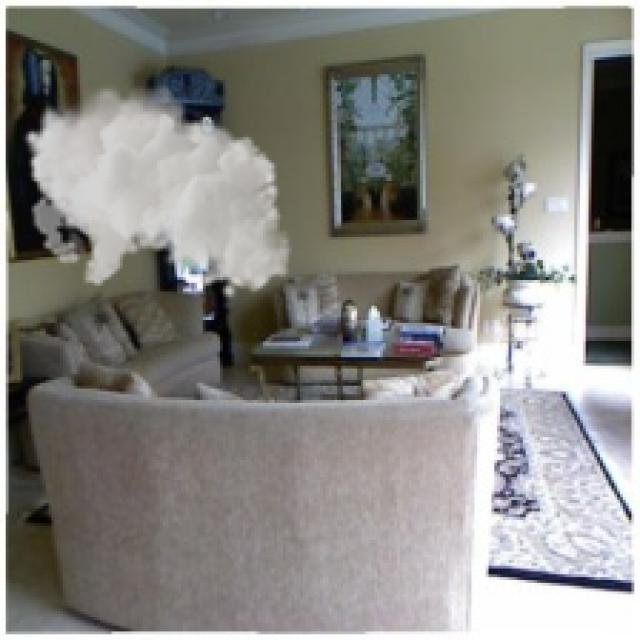smoke: (23, 77, 291, 300)
